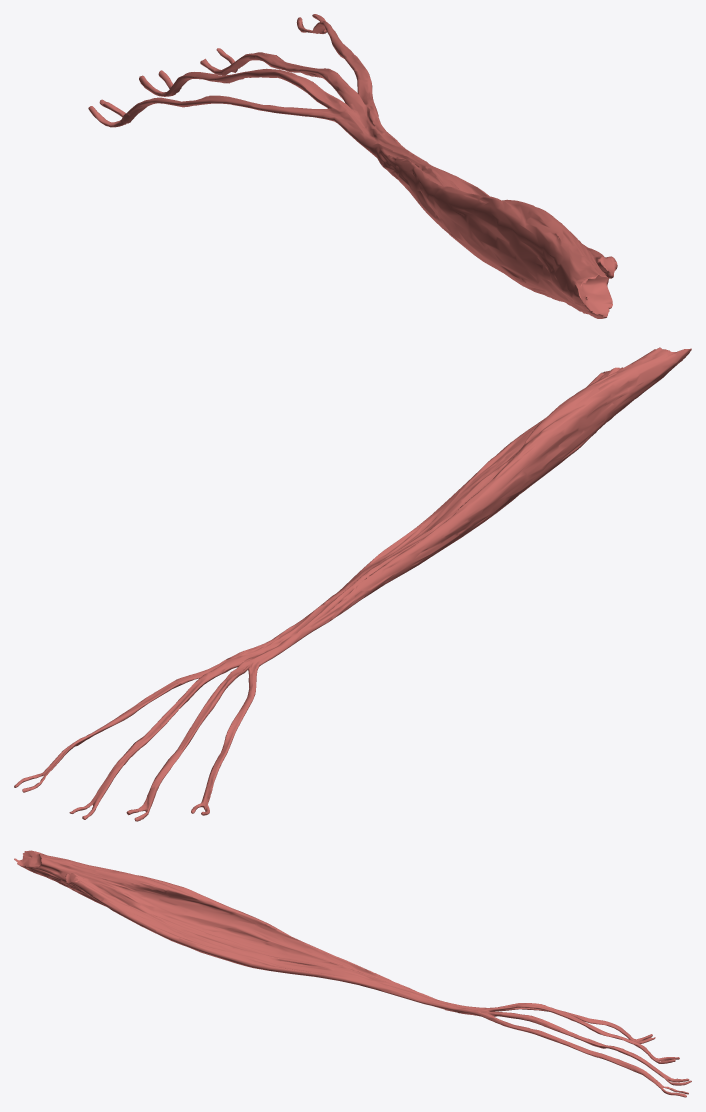
The picture shows the model from 3 angles, top to bottom: view 1: azimuth 30°, elevation 25°; view 2: azimuth 150°, elevation 25°; view 3: azimuth 270°, elevation 25°; orthographic projection. The views are drawn at different scales.
Parts seen in each view (by area): view 1: 左侧指浅屈肌肱尺头; view 2: 左侧指浅屈肌肱尺头; view 3: 左侧指浅屈肌肱尺头.
Part boxes in pixels (x1,y1,x2,y2): 左侧指浅屈肌肱尺头: [88, 14, 617, 318]; 左侧指浅屈肌肱尺头: [14, 347, 691, 821]; 左侧指浅屈肌肱尺头: [14, 850, 691, 1097].
Size of the model in its own units: 0.1945 by 0.1529 by 0.5742.
